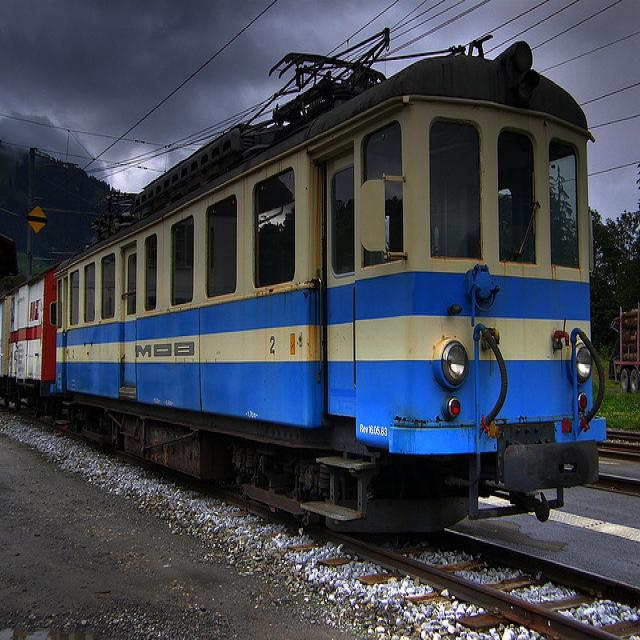Vehicle: (613, 302, 640, 396), (622, 309, 636, 361)
